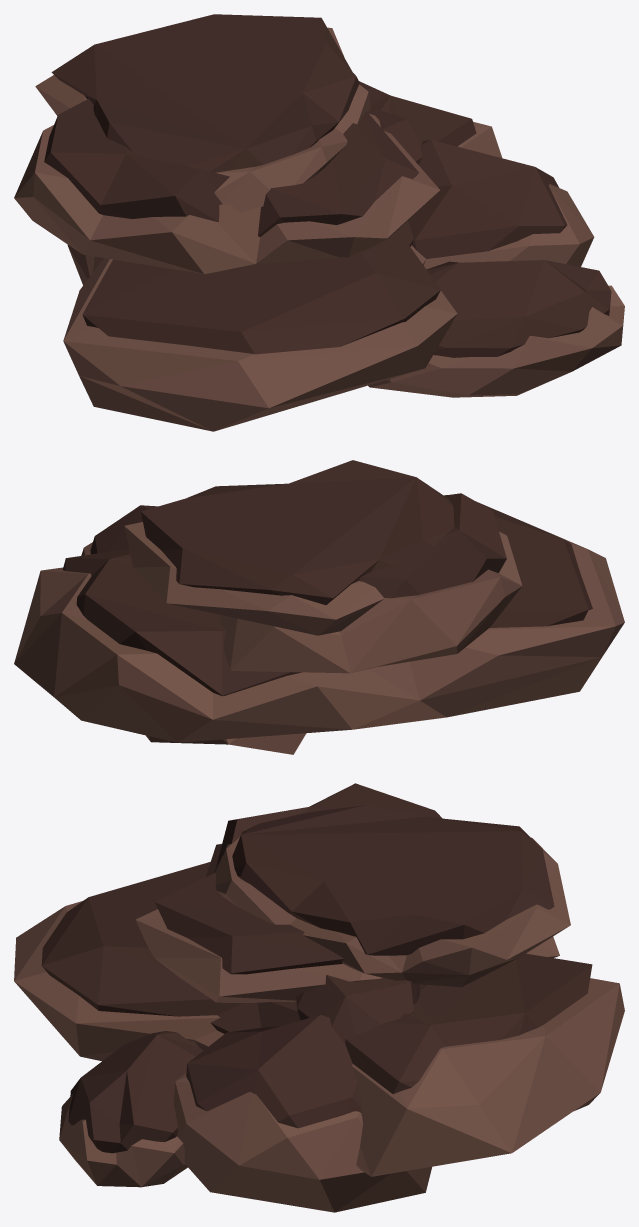
The model's file is Brown_rock_025.fbx.
3 views of the same model, one above another, from view 1: azimuth 30°, elevation 25°; view 2: azimuth 150°, elevation 25°; view 3: azimuth 270°, elevation 25° (orthographic). The views are drawn at different scales.
Visible parts, largest first — view 1: Brown_rock_025; view 2: Brown_rock_025; view 3: Brown_rock_025.
Part boxes in pixels (left/top/right/bottom): Brown_rock_025: left=14, top=14, right=624, bottom=431; Brown_rock_025: left=14, top=460, right=624, bottom=754; Brown_rock_025: left=14, top=783, right=624, bottom=1212.
Bounding box in the file's own units: 650 × 647 × 343.
